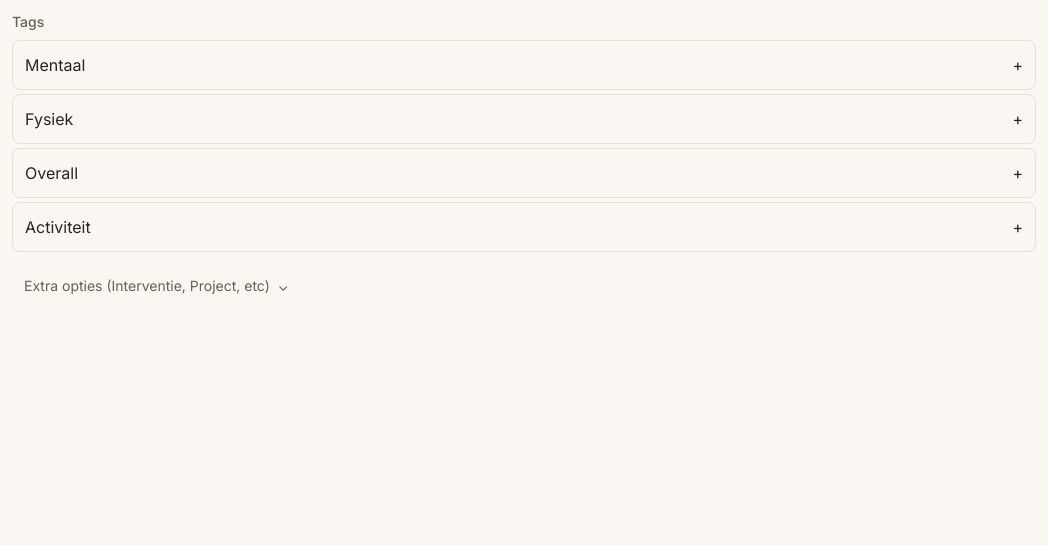
Scenario: <TagCategoryList /> › tapping "Extra opties" reveals the 4 extra categories inline; tapping again collapses them. aria-expanded flips
Click the button "Extra opties (Interventie, Project, etc) ⌄" at (156,286), box [12, 264, 301, 308]
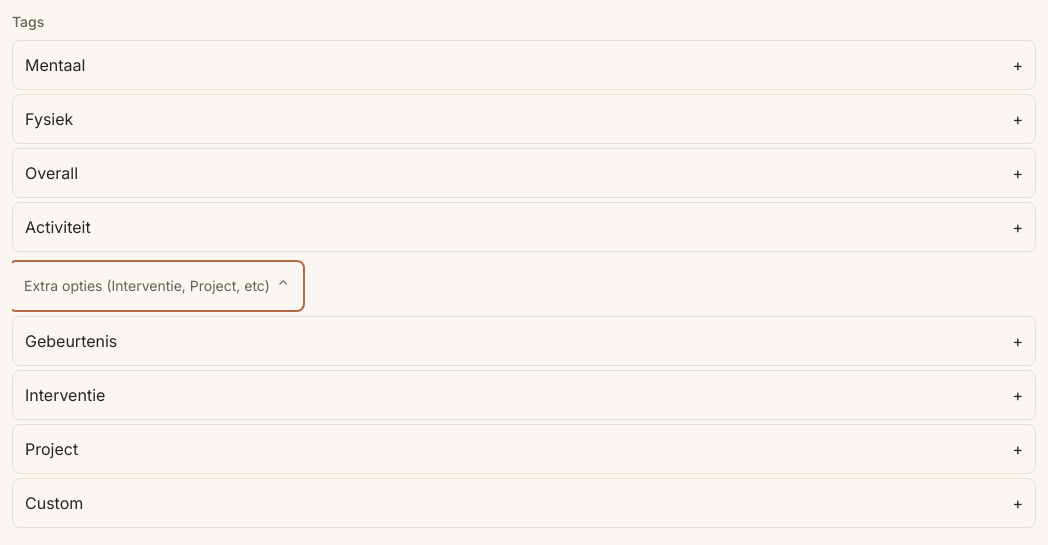
Expected: the button "Extra opties (Interventie, Project, etc) ⌃" is expanded
Expected: the button "gebeurtenis +" is shown, [12, 316, 1036, 366]
Expected: the button "interventie +" is shown, [12, 370, 1036, 420]
Click the button "Extra opties (Interventie, Project, etc) ⌃" at (156,286), box [12, 264, 301, 308]
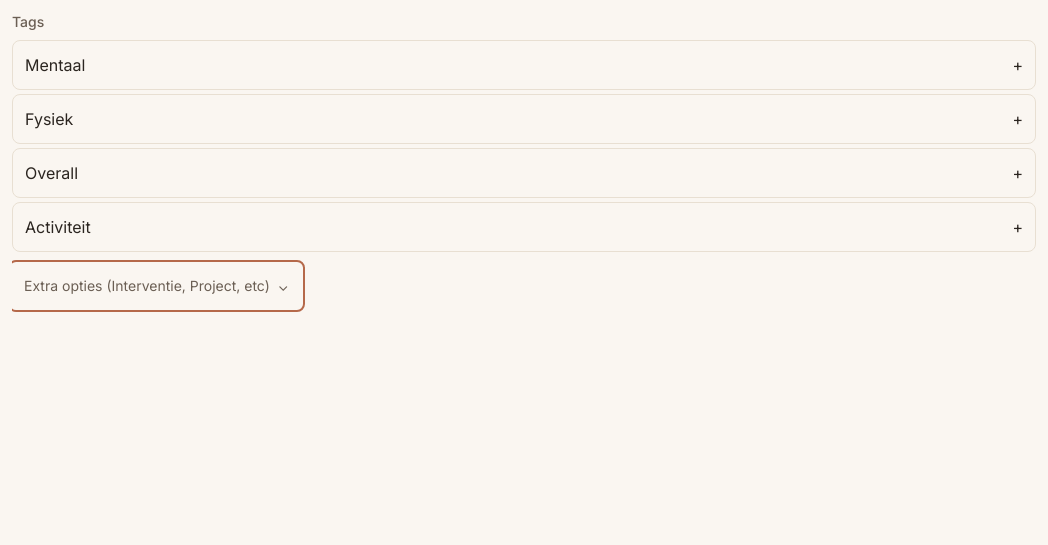
Expected: the button "Extra opties (Interventie, Project, etc) ⌄" is collapsed, [12, 264, 301, 308]
Expected: the button "gebeurtenis" is gone
